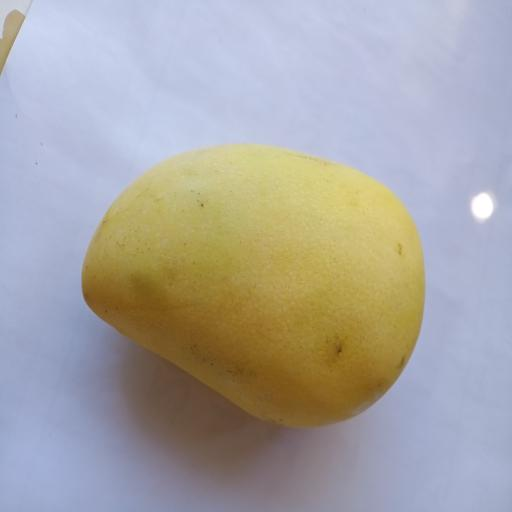mango-ripe: (62, 120, 442, 455)
